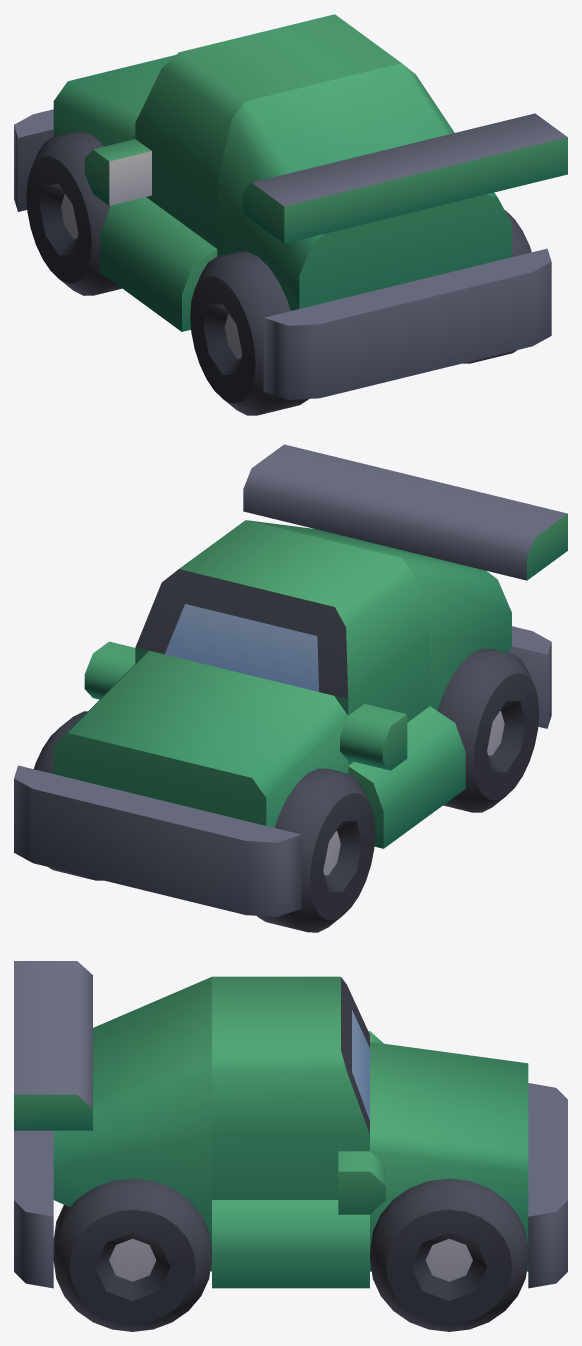
Rendered from toy-racer.glb.
3 views of the same model, one above another, from view 1: azimuth 30°, elevation 25°; view 2: azimuth 150°, elevation 25°; view 3: azimuth 270°, elevation 25° (orthographic). The views are drawn at different scales.
Parts seen in each view (by area): view 1: vehicle-racer, wheel-bl, wheel-fl, wheel-br; view 2: vehicle-racer, wheel-bl, wheel-fl, wheel-fr; view 3: vehicle-racer, wheel-br, wheel-fr.
Part boxes in pixels (x1=…): vehicle-racer: x1=14, y1=14, x2=567, y2=399; wheel-bl: x1=190, y1=251, x2=308, y2=415; wheel-fl: x1=26, y1=131, x2=121, y2=295; wheel-br: x1=462, y1=210, x2=531, y2=363; vehicle-racer: x1=14, y1=444, x2=567, y2=916; wheel-bl: x1=437, y1=648, x2=539, y2=812; wheel-fl: x1=257, y1=768, x2=375, y2=932; wheel-fr: x1=34, y1=711, x2=103, y2=880; vehicle-racer: x1=14, y1=961, x2=567, y2=1288; wheel-br: x1=53, y1=1178, x2=211, y2=1331; wheel-fr: x1=370, y1=1178, x2=528, y2=1331.
Bounding box in the file's own units: 0.525 × 0.45 × 0.875.
